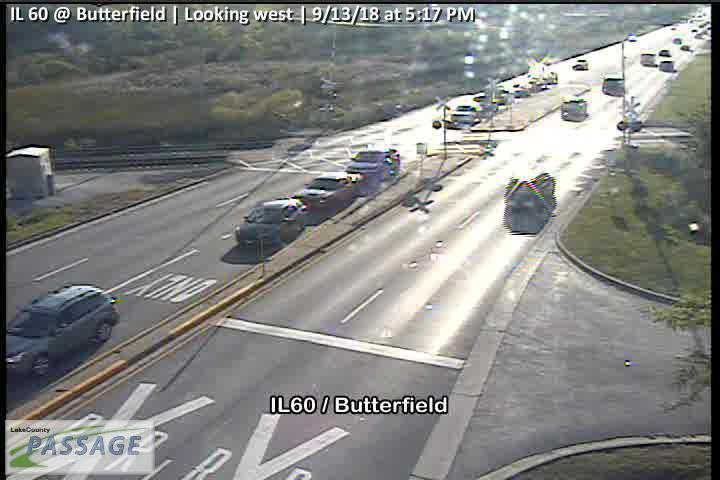SUV: (1, 286, 120, 376)
Sedan: (231, 199, 309, 246), (293, 170, 365, 213), (346, 148, 401, 185)
